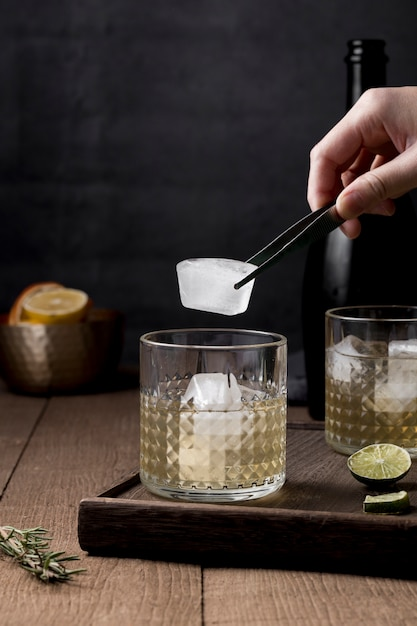alcohol: (305, 35, 417, 423), (130, 328, 292, 507), (322, 306, 417, 460)
